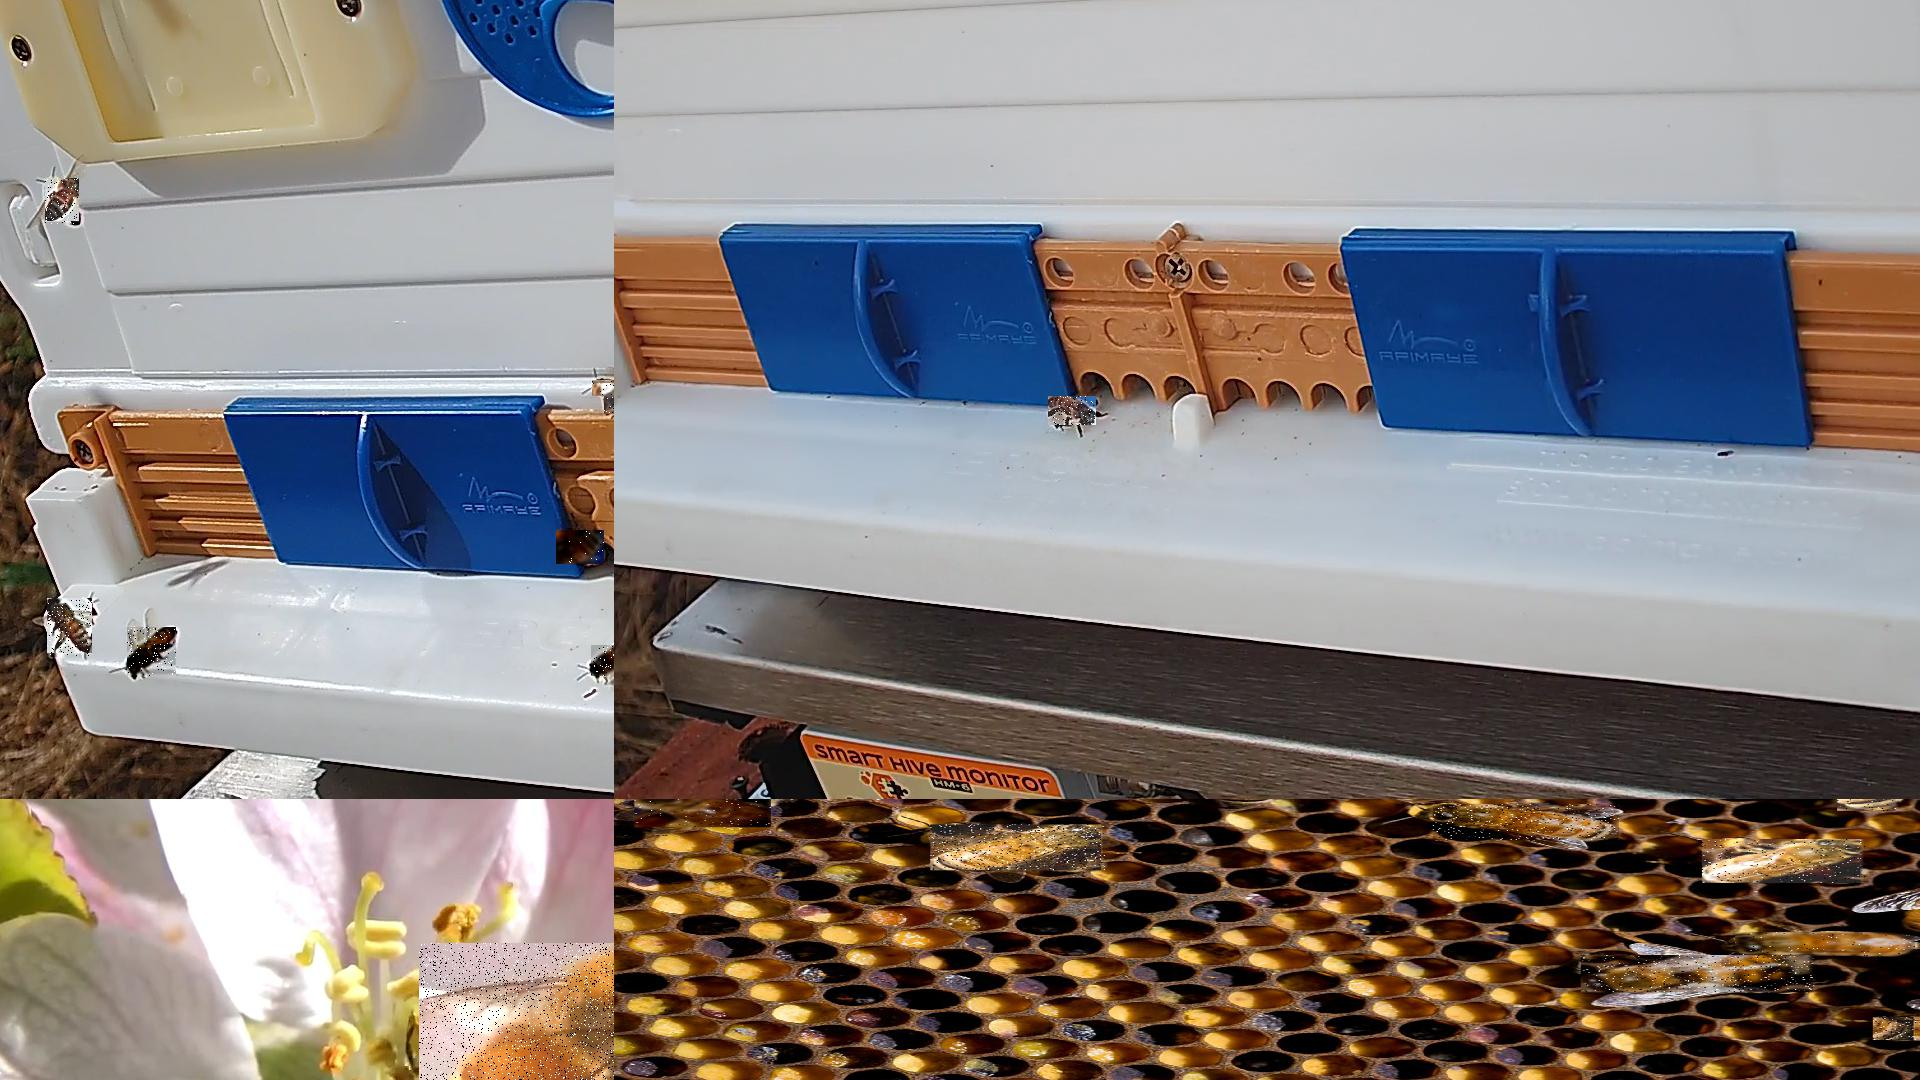bee: (931, 824, 1108, 870), (1704, 839, 1867, 884), (1433, 804, 1621, 841), (1737, 932, 1919, 956), (634, 799, 773, 828), (127, 628, 177, 678), (556, 530, 605, 566), (45, 178, 80, 225), (1048, 396, 1097, 426), (1874, 1017, 1919, 1040), (1838, 799, 1902, 811), (591, 645, 613, 678), (592, 380, 613, 398)
drone: (1582, 955, 1817, 993)
pollenbee: (419, 943, 613, 1079), (47, 599, 94, 658)
